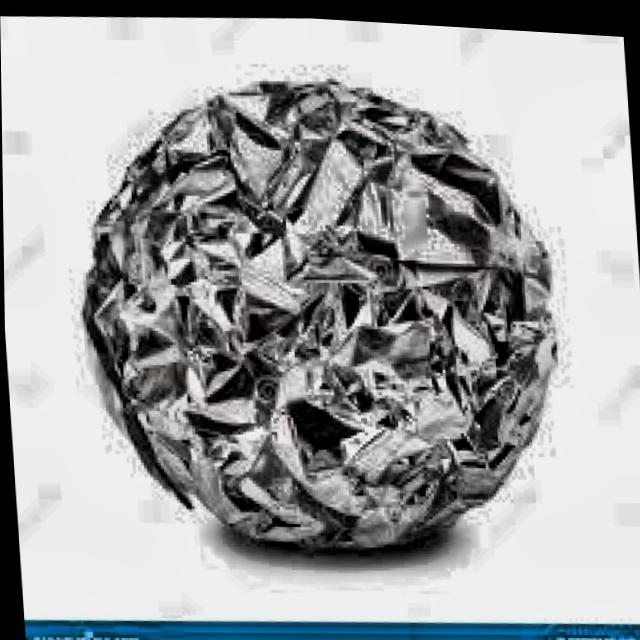Foil: (55, 58, 586, 581)
